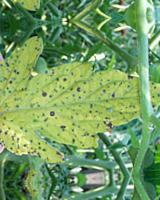Tomato Septoria leaf spot: (0, 24, 160, 171)
